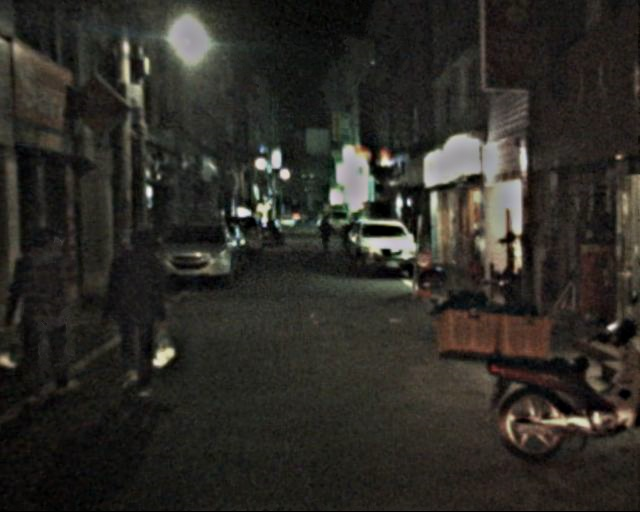person: (5, 220, 88, 400), (107, 225, 177, 398), (315, 216, 334, 256)
